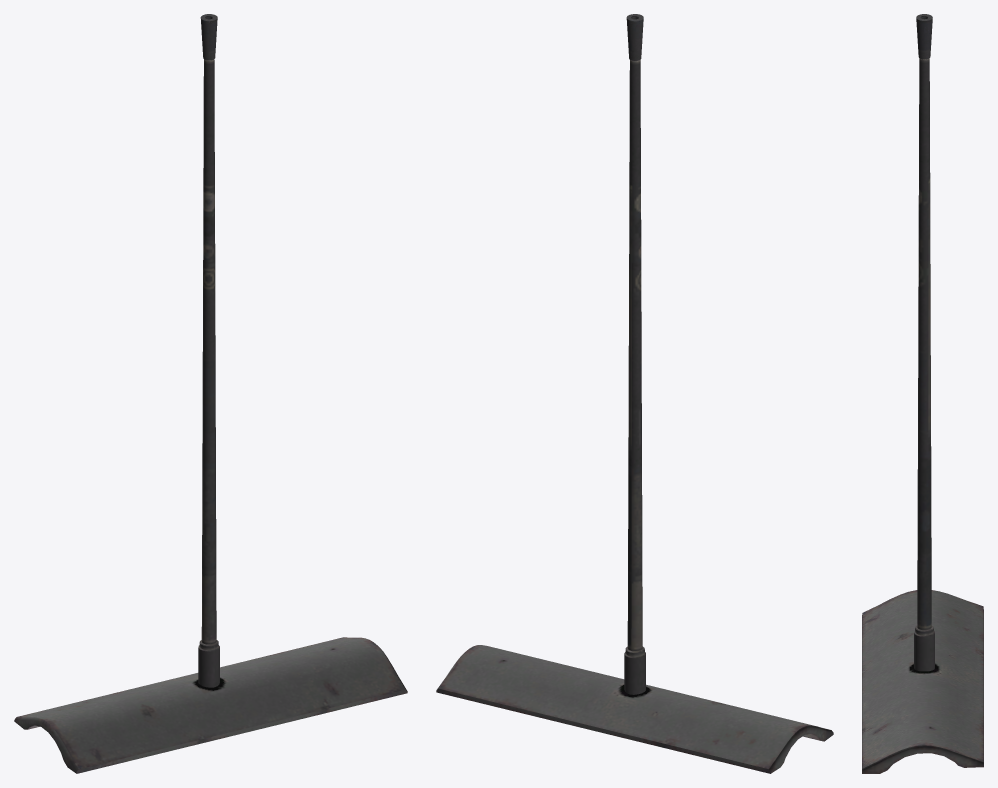
Rendered from Gun_03.glb.
3 renders of one model, left to right at view 1: azimuth 30°, elevation 25°; view 2: azimuth 150°, elevation 25°; view 3: azimuth 270°, elevation 25°, orthographic. The views are drawn at different scales.
Parts seen in each view (by area): view 1: set_0_group_0; view 2: set_0_group_0; view 3: set_0_group_0.
Boxes of the visible parts, x1,y1,x2,y2 form: set_0_group_0: (14, 14, 407, 773); set_0_group_0: (436, 14, 833, 773); set_0_group_0: (862, 14, 983, 773).
Size of the model in its own units: 1.11 by 2.23 by 0.3635.
1 material, 1 textured.
